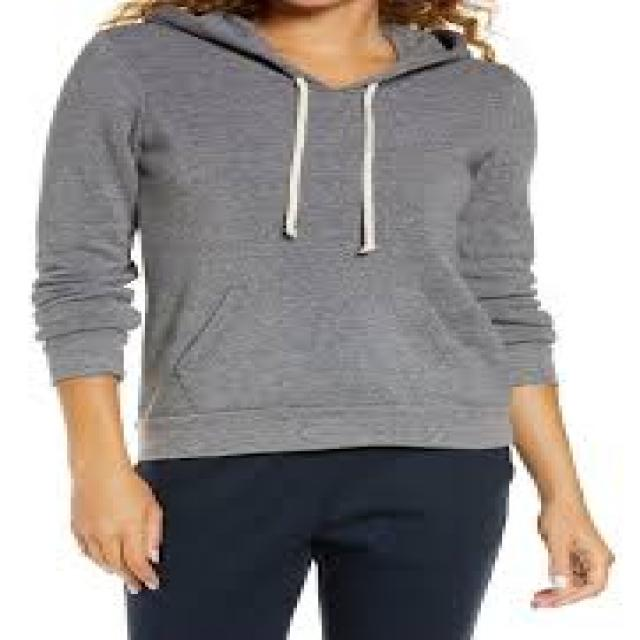plain: (14, 27, 634, 500)
